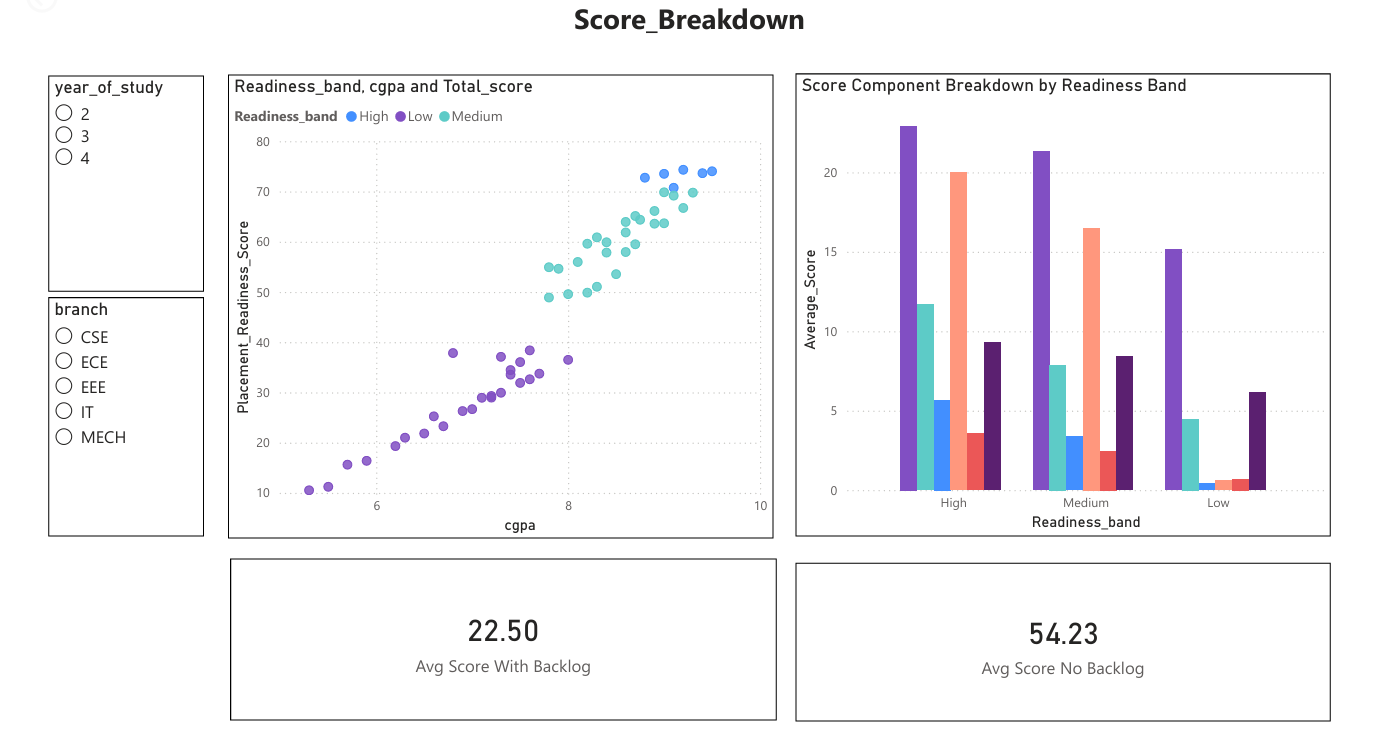

The dashboard page shown, as its layout file describes it:
{"tool":"powerbi","page":{"name":"Score_Breakdown","canvas":[1280,720],"ordinal":1},"visuals":[{"type":"actionButton","box":[0,0,100,40],"z":0},{"type":"listSlicer","fields":{"Values":["Main_Data.year_of_study"]},"box":[26.1,95,149,206.7],"z":1000},{"type":"listSlicer","fields":{"Values":["Main_Data.branch"]},"box":[26.1,307.3,149,229.1],"z":2000},{"type":"scatterChart","fields":{"X":["Main_Data.cgpa"],"Y":["Main_Data.Total_score"],"Series":["Main_Data.Readiness_band"]},"box":[198.4,93.9,521.6,444.1],"z":3000},{"type":"card","fields":{"Values":["Main_Data.Avg Score No Backlog"]},"box":[741.2,560.5,512.1,152.7],"z":4000},{"type":"card","fields":{"Values":["Main_Data.Avg Score With Backlog"]},"box":[200.3,557.5,522.2,155],"z":5000},{"type":"clusteredColumnChart","title":"Score Component Breakdown by Readiness Band","fields":{"Category":["Main_Data.Readiness_band"],"Y":["Avg(Main_Data.academic_score)","Avg(Main_Data.skills_score)","Avg(Main_Data.certifications_score)","Avg(Main_Data.internship_score)","Avg(Main_Data.projects_score)","Avg(Main_Data.mock_test_score)"]},"box":[741.2,93.1,512.1,443.2],"z":6000},{"type":"textbox","box":[0,16.8,1279.4,54],"z":7000}]}

Visuals, with their boxes in screenshot pixels (x1, y1, x2, y2):
actionButton: pyautogui.locateOnScreen(54, 0, 153, 40)
listSlicer - Main_Data.year_of_study: pyautogui.locateOnScreen(80, 94, 227, 299)
listSlicer - Main_Data.branch: pyautogui.locateOnScreen(80, 305, 227, 532)
scatterChart - Main_Data.cgpa x Main_Data.Total_score: pyautogui.locateOnScreen(251, 93, 768, 533)
card - Main_Data.Avg Score No Backlog: pyautogui.locateOnScreen(789, 556, 1297, 707)
card - Main_Data.Avg Score With Backlog: pyautogui.locateOnScreen(252, 553, 770, 706)
"Score Component Breakdown by Readiness Band" clusteredColumnChart: pyautogui.locateOnScreen(789, 92, 1297, 532)
textbox: pyautogui.locateOnScreen(54, 17, 1322, 70)
